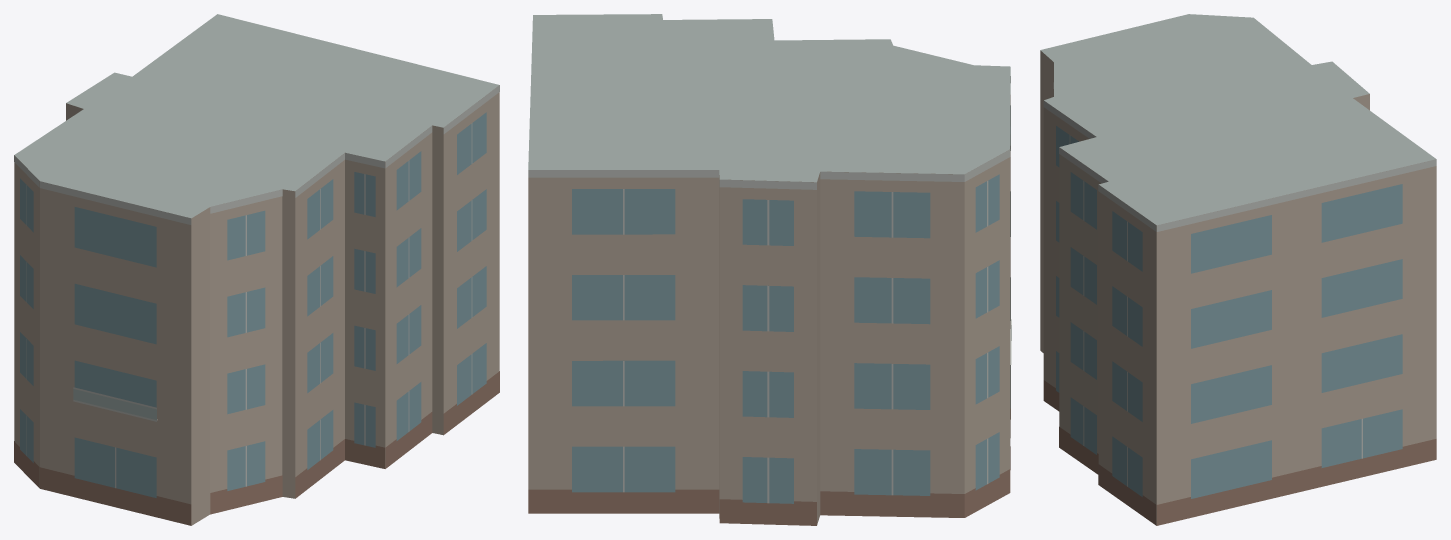
The model's file is survey-upis-32681789.glb.
3 views of the same model, side by side, from view 1: azimuth 30°, elevation 25°; view 2: azimuth 150°, elevation 25°; view 3: azimuth 270°, elevation 25° (orthographic). The views are drawn at different scales.
Parts seen in each view (by area): view 1: survey-upis-32681789.tmp; view 2: survey-upis-32681789.tmp; view 3: survey-upis-32681789.tmp.
Part boxes in pixels (x1=…): survey-upis-32681789.tmp: x1=14, y1=14, x2=499, y2=525; survey-upis-32681789.tmp: x1=528, y1=14, x2=1011, y2=525; survey-upis-32681789.tmp: x1=1040, y1=14, x2=1436, y2=525.
Size of the model in its own units: 16.38 by 10.85 by 12.98.
